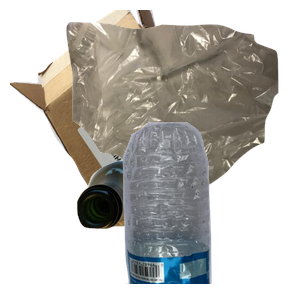cardboard: (10, 10, 227, 190)
glass: (74, 158, 223, 300)
plastic: (111, 120, 300, 300)
trash: (64, 20, 300, 200)
